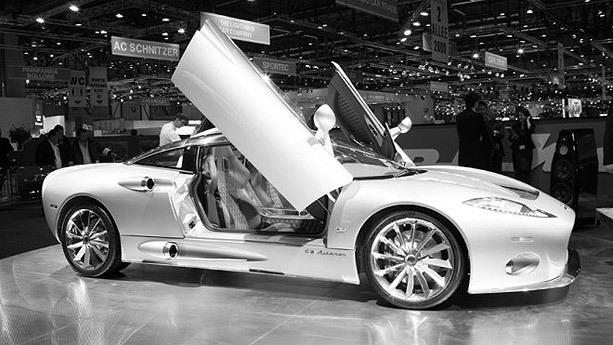car: (39, 24, 577, 316)
